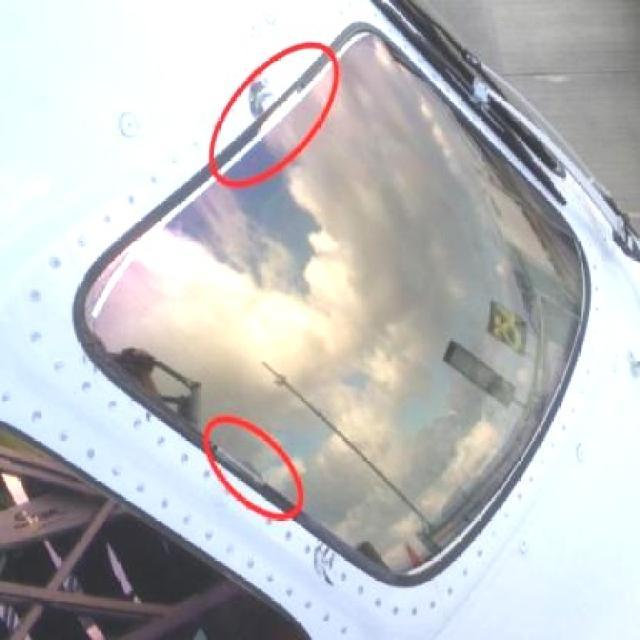crack: (313, 547, 335, 587)
